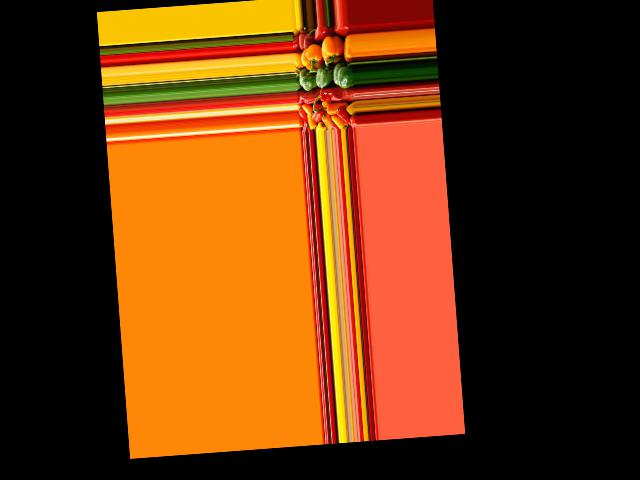bell_pepper: (335, 106, 352, 126)
